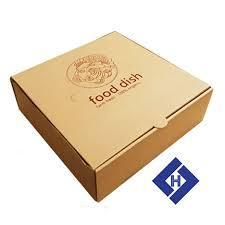box: (8, 31, 213, 203)
